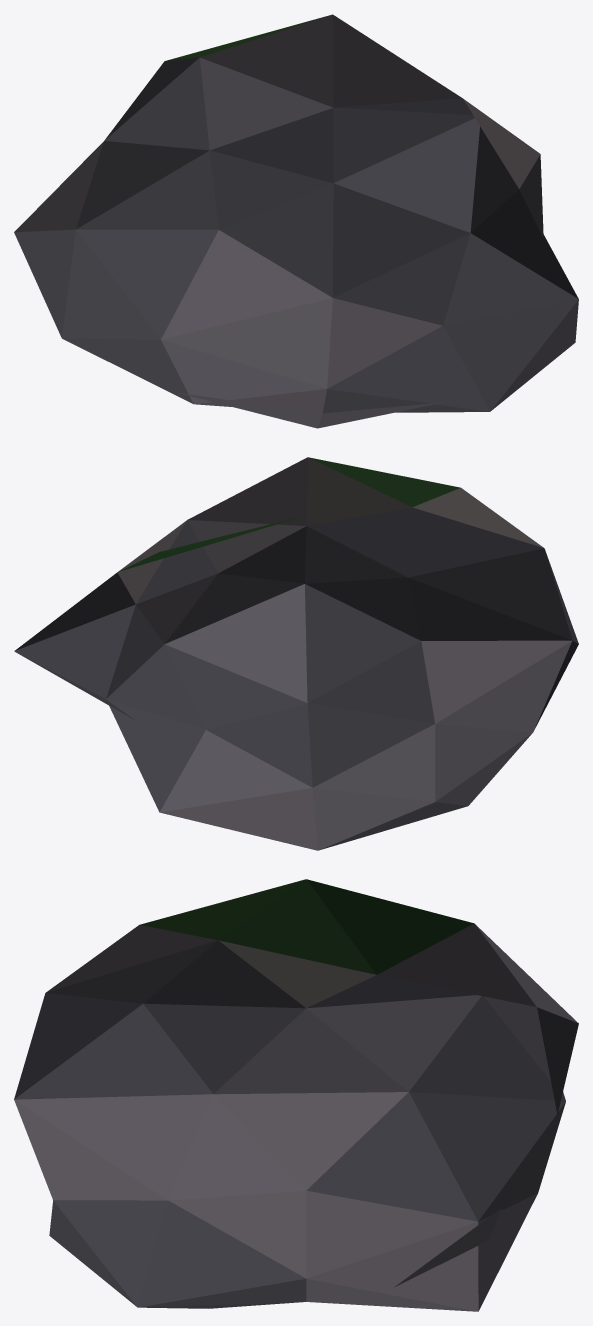
File: rock_2.gltf
The picture shows the model from 3 angles, top to bottom: view 1: azimuth 30°, elevation 25°; view 2: azimuth 150°, elevation 25°; view 3: azimuth 270°, elevation 25°; orthographic projection. The views are drawn at different scales.
Bounding box in the file's own units: 2.01 × 1.23 × 1.96.
